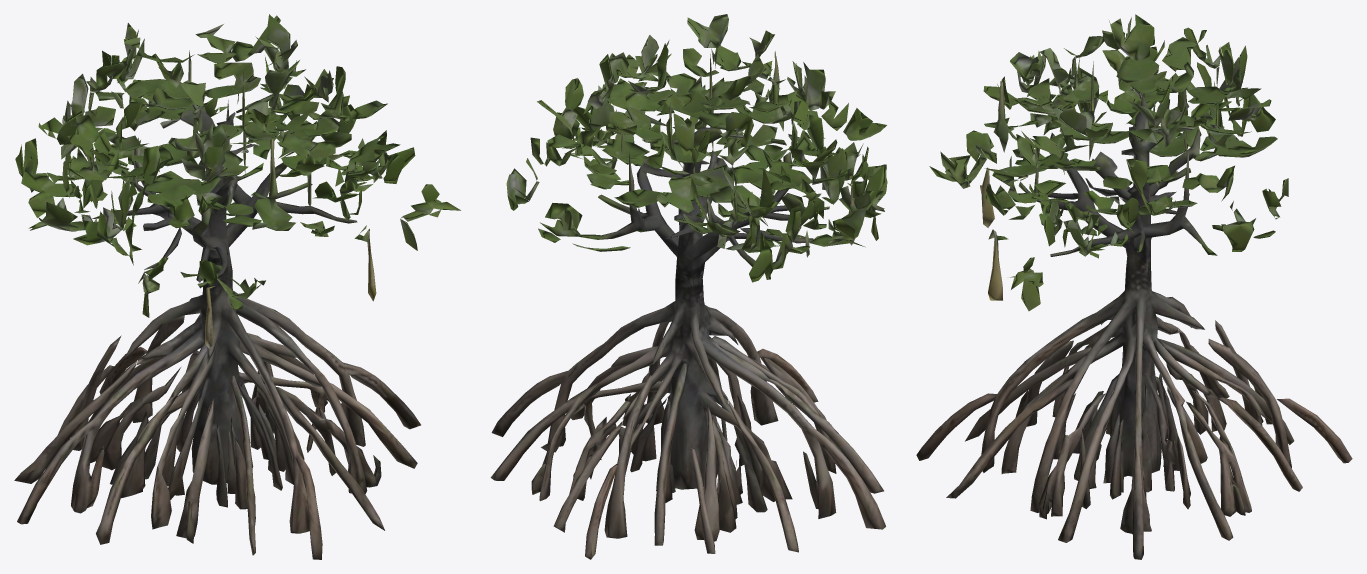
Rendered from mangrove.glb.
3 renders of one model, left to right at view 1: azimuth 30°, elevation 25°; view 2: azimuth 150°, elevation 25°; view 3: azimuth 270°, elevation 25°, orthographic. The views are drawn at different scales.
Parts seen in each view (by area): view 1: tripo_node_0e2e4e08-e34e-46fe-a07d-3750f44d2512; view 2: tripo_node_0e2e4e08-e34e-46fe-a07d-3750f44d2512; view 3: tripo_node_0e2e4e08-e34e-46fe-a07d-3750f44d2512.
Part boxes in pixels (x1,y1,x2,y2): tripo_node_0e2e4e08-e34e-46fe-a07d-3750f44d2512: [14, 14, 460, 559]; tripo_node_0e2e4e08-e34e-46fe-a07d-3750f44d2512: [490, 14, 887, 559]; tripo_node_0e2e4e08-e34e-46fe-a07d-3750f44d2512: [916, 14, 1352, 559].
Bounding box in the file's own units: 0.9466 × 0.9982 × 0.9261.
Materials: 1 (1 with a texture image).
